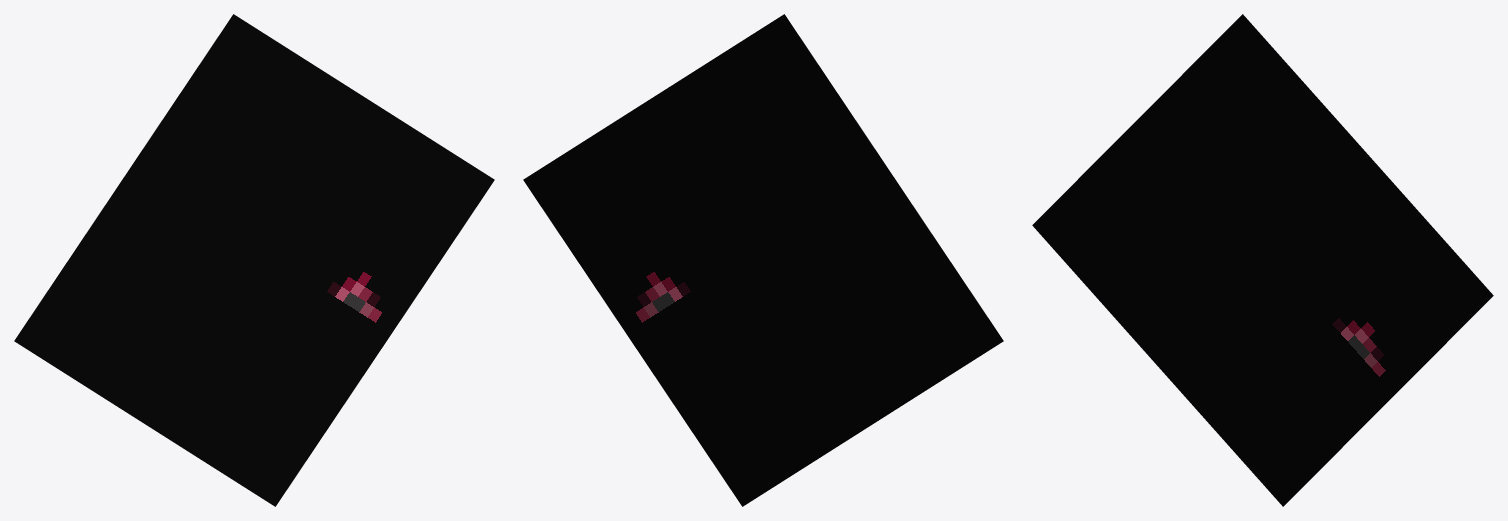
Rendered from legendarysword.gltf.
3 views of the same model, side by side, from view 1: azimuth 30°, elevation 25°; view 2: azimuth 150°, elevation 25°; view 3: azimuth 330°, elevation 25° (orthographic). The views are drawn at different scales.
Visible parts, largest first — view 1: cube; view 2: cube; view 3: cube.
Boxes of the visible parts, x1,y1,x2,y2 form: cube: [14, 14, 494, 506]; cube: [523, 14, 1003, 506]; cube: [1032, 14, 1493, 506].
Size of the model in its own units: 1.41 by 1.41 by 6.25e-05.
1 material, 1 textured.
